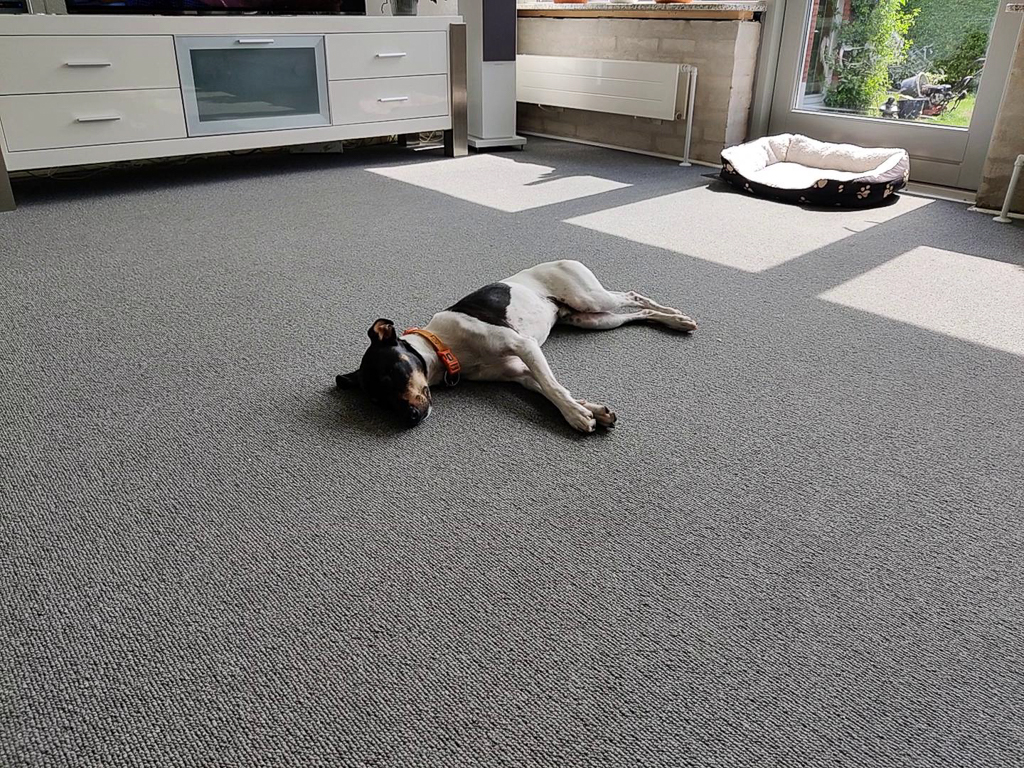Dog: (322, 245, 723, 459)
Humanoid: (875, 93, 905, 122)
